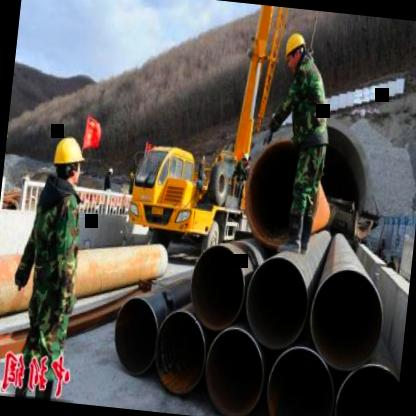helmet: (50, 131, 86, 188), (280, 28, 308, 74)
